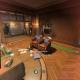Character: (30, 27, 32, 32)
Head: (30, 27, 31, 28)
